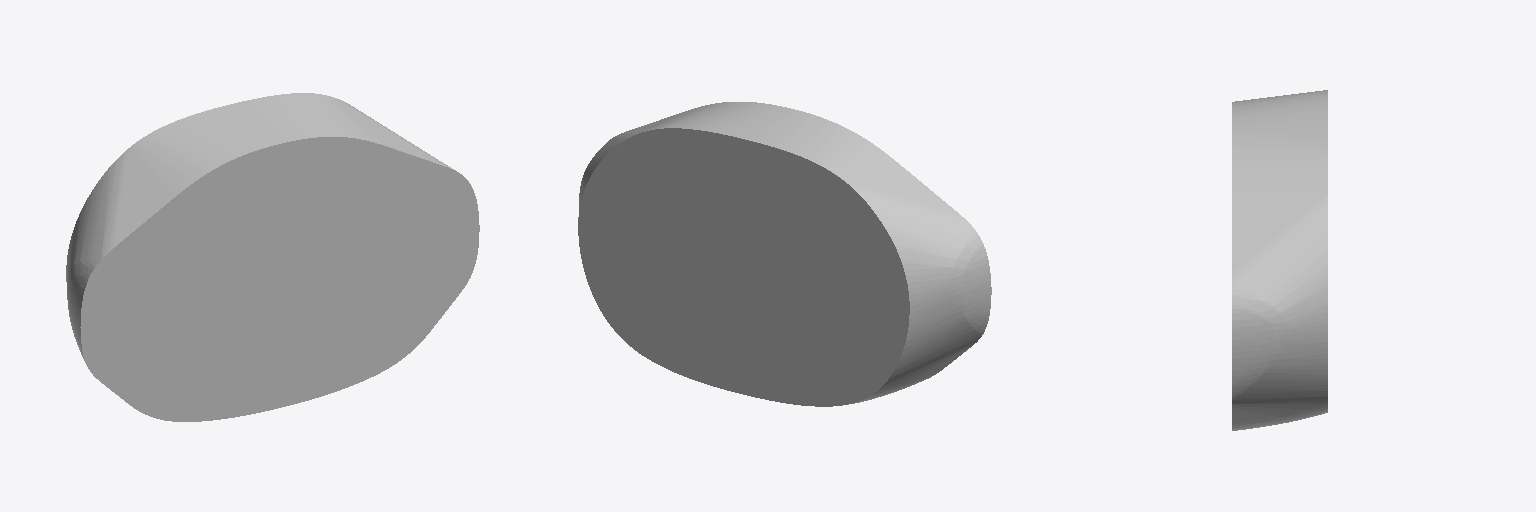
File: duck_collision_4.obj
3 renders of one model, left to right at view 1: azimuth 30°, elevation 25°; view 2: azimuth 150°, elevation 25°; view 3: azimuth 270°, elevation 25°, orthographic.
Size of the model in its own units: 0.078 by 0.0502 by 0.0163.